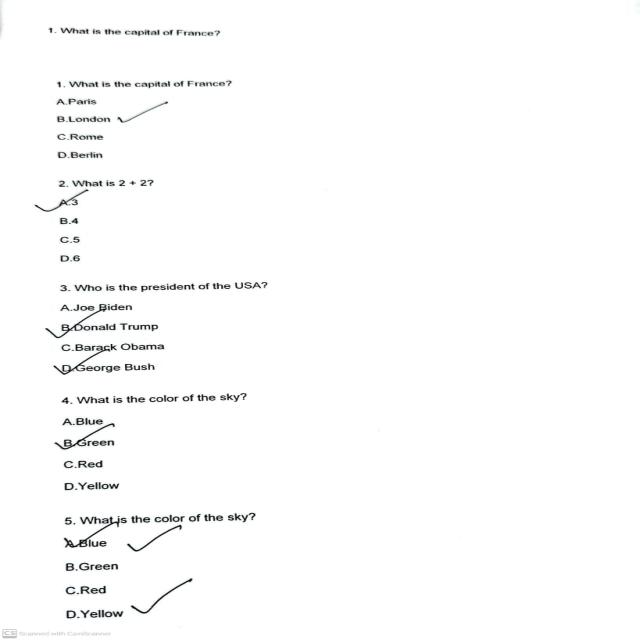Student_Ticked: (120, 577, 200, 616), (112, 96, 176, 129), (58, 423, 124, 454), (47, 310, 108, 341), (131, 524, 186, 554), (55, 351, 110, 379), (41, 188, 90, 218), (61, 520, 106, 545)
